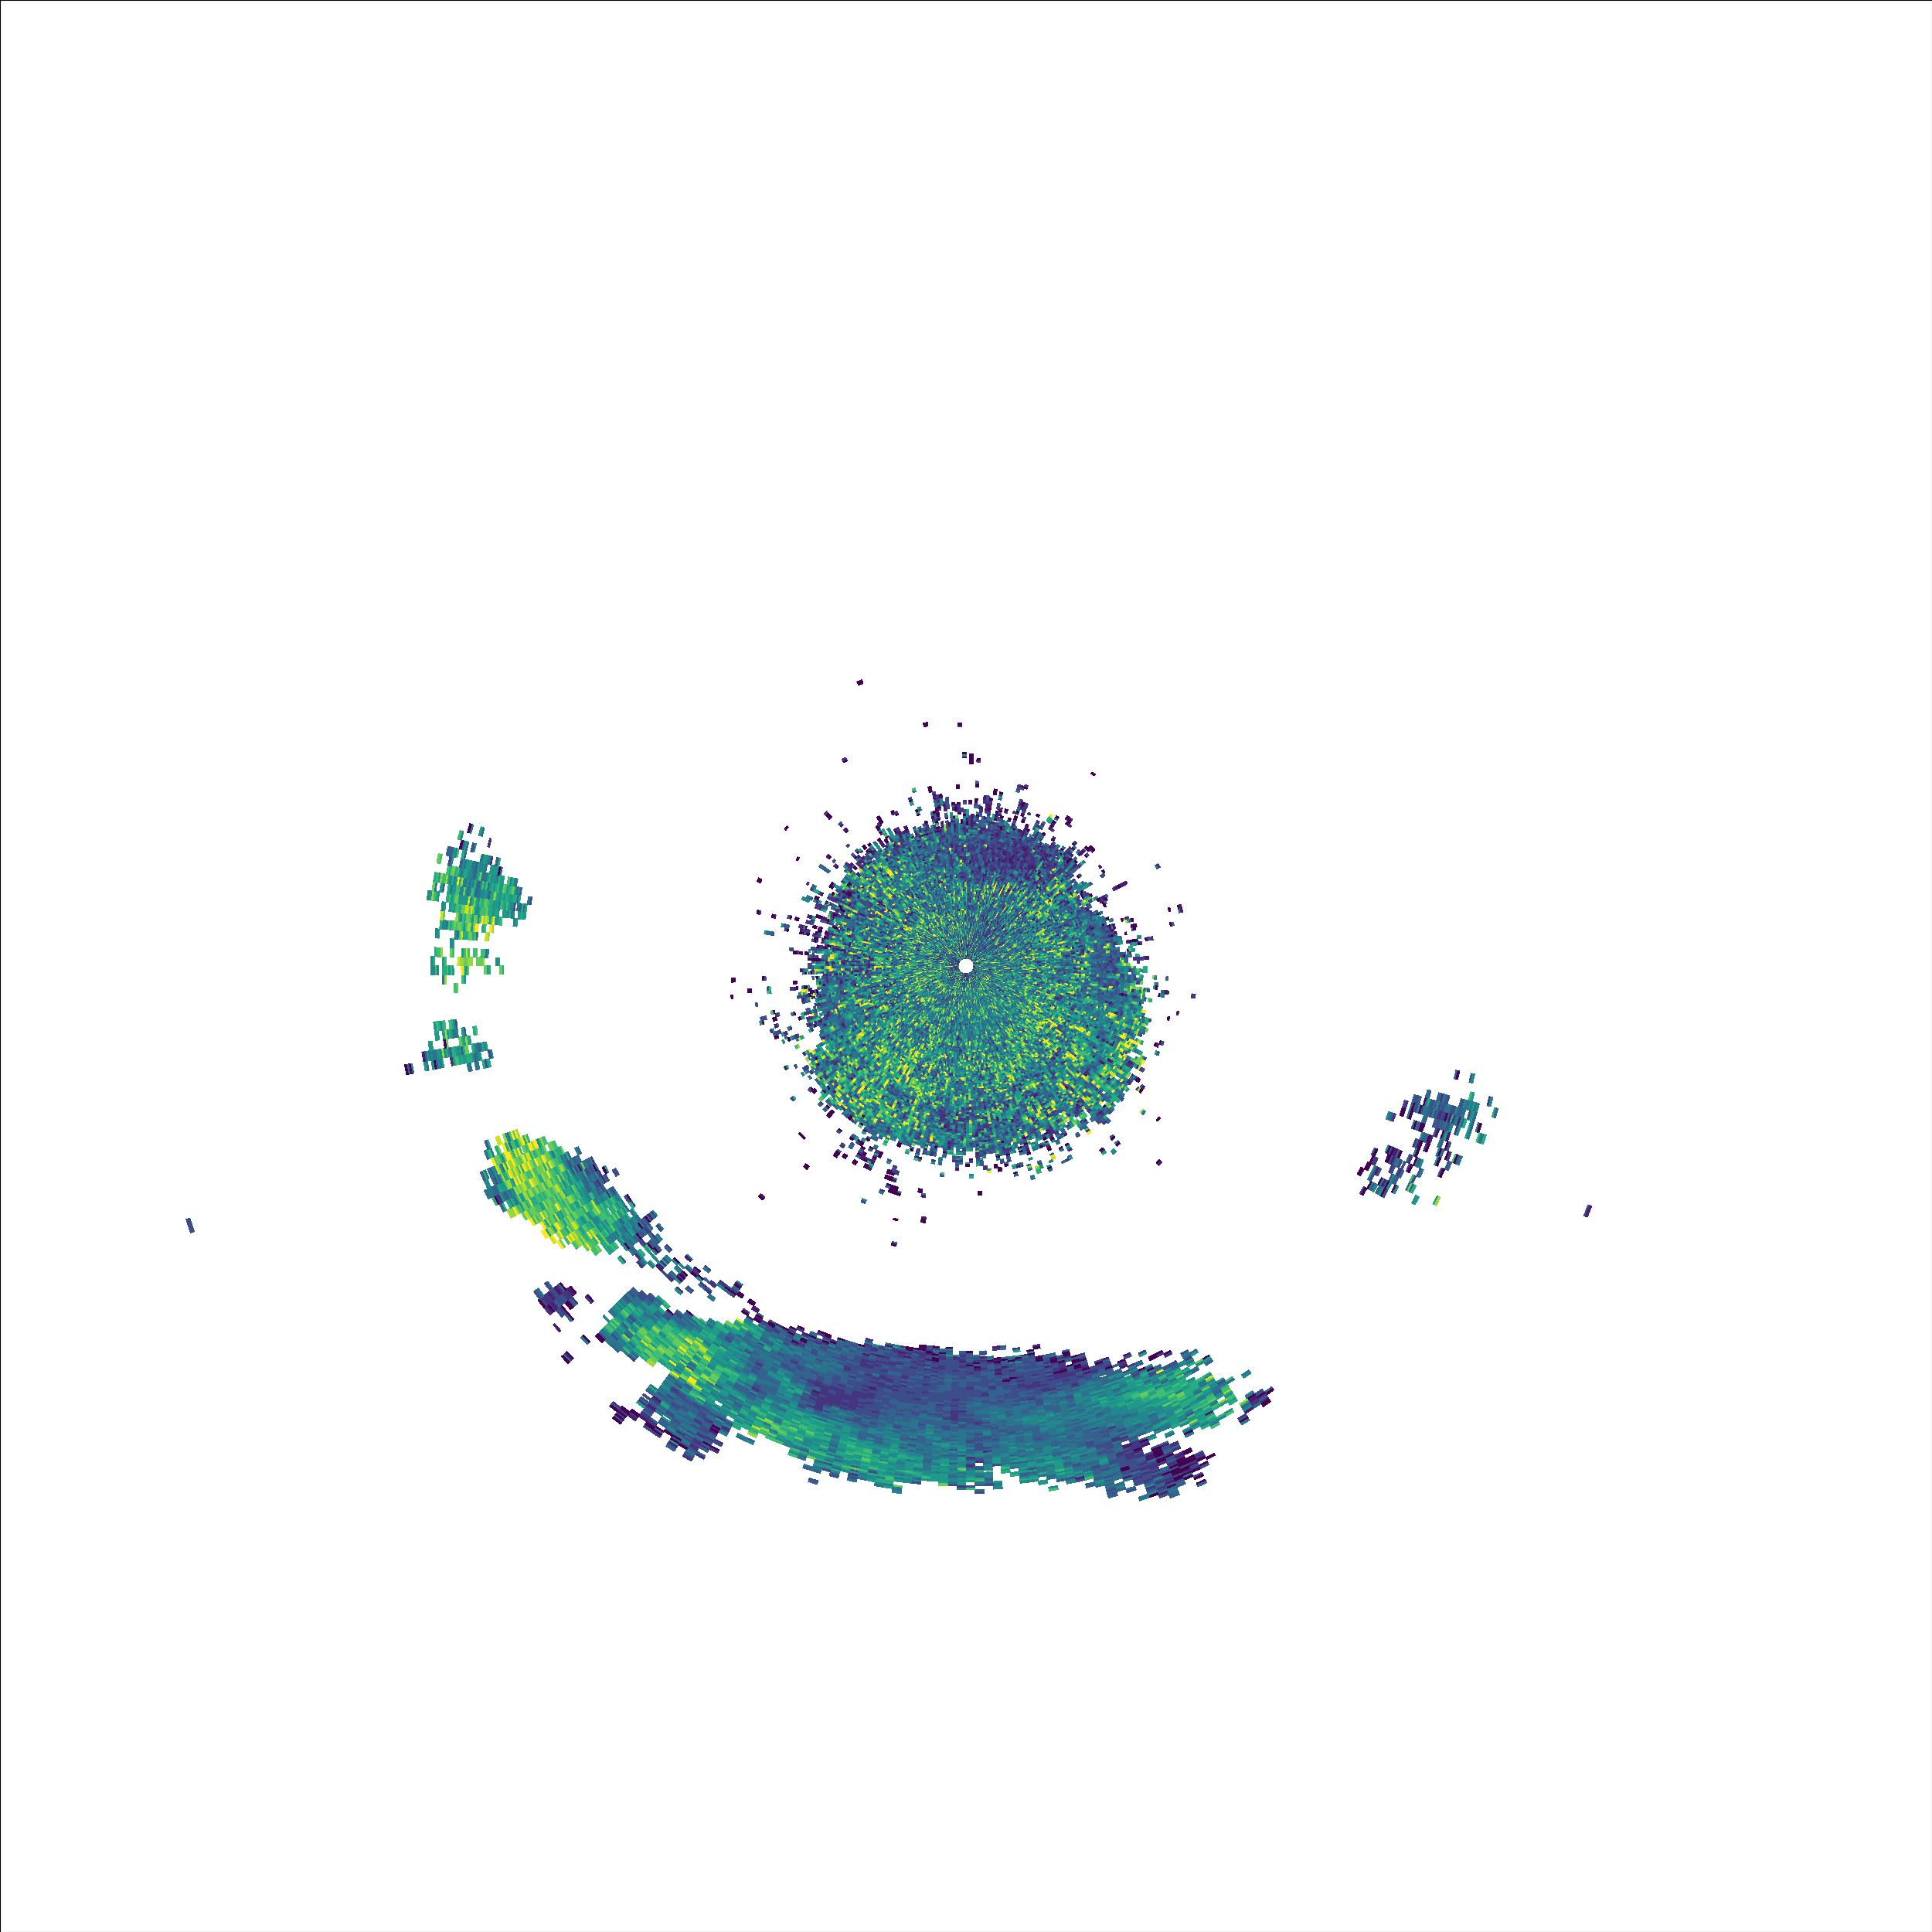fall: (380, 816, 554, 1095)
